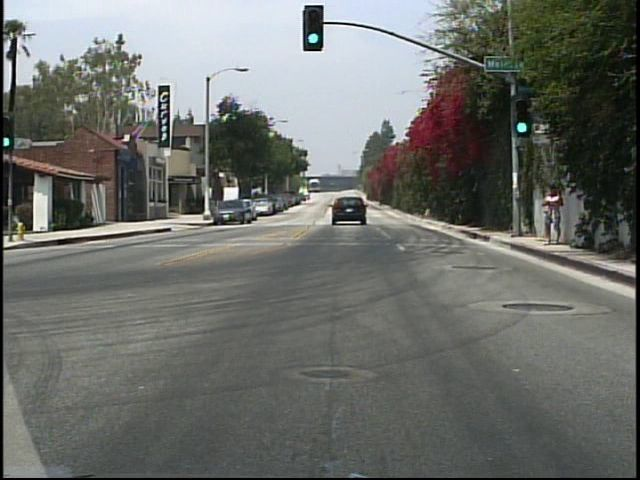person: (540, 183, 569, 249)
